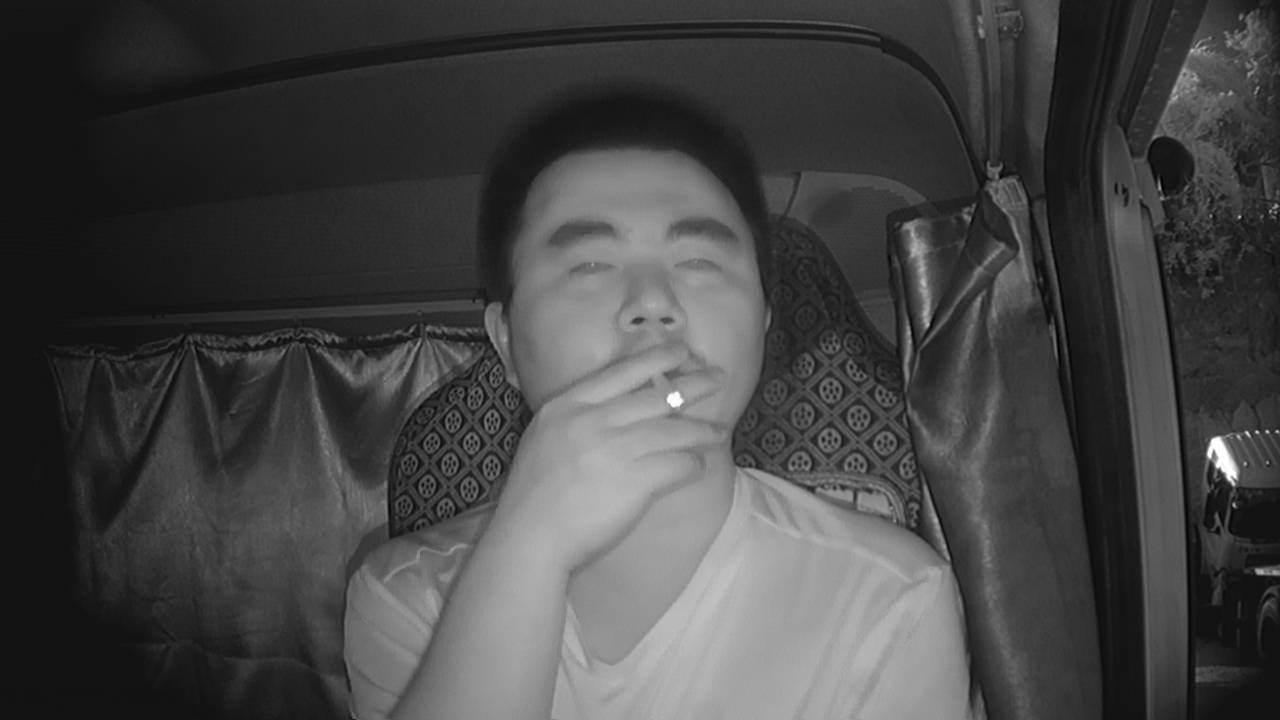hand: (582, 340, 726, 502)
